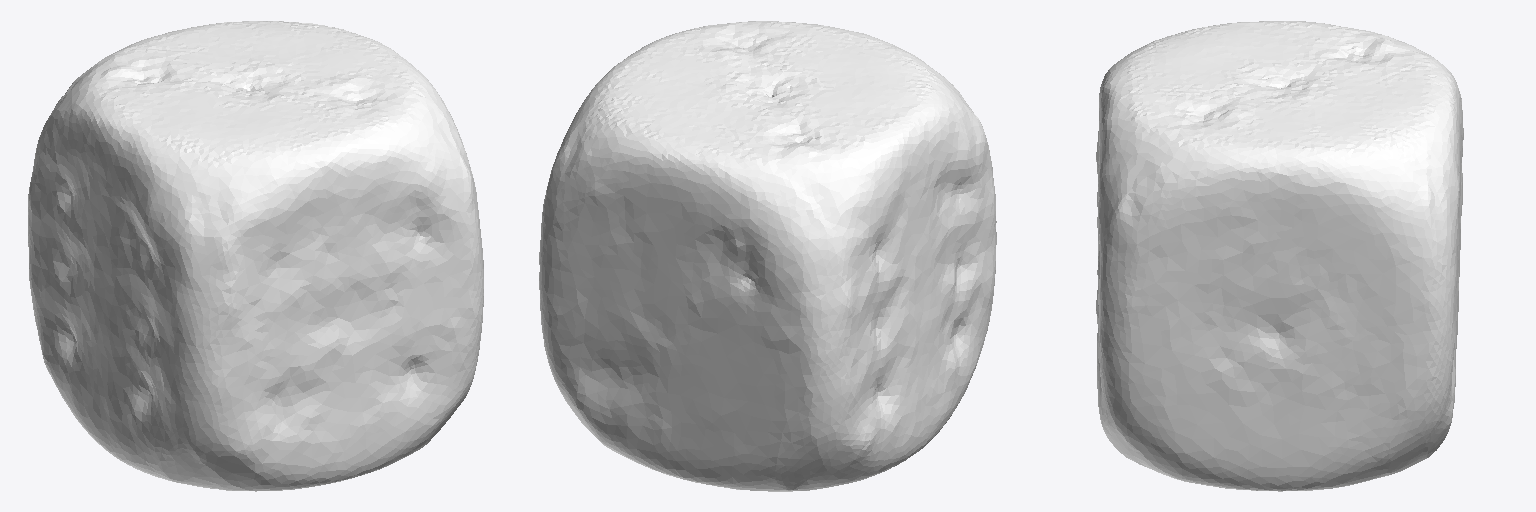
The robot description file, URDF, robot "dice":
<robot name="dice">
    <link name="base_link">
        <visual>
            <origin xyz="0.0 0.0 -0.0" rpy="0.0 0.0 0.0" />
            <geometry>
                <mesh filename="dice/textured.obj" scale="1 1 1" />
            </geometry>
            <material name="texture">
                <color rgba="1.0 1.0 1.0 1.0" />
            </material>
        </visual>
        <collision>
            <origin xyz="0.0 0.0 -0.0" rpy="0.0 0.0 0.0" />
            <geometry>
                <mesh filename="dice/textured_coacd_0.stl" scale="1 1 1" />
            </geometry>
        </collision>
        <collision>
            <origin xyz="0.0 0.0 -0.0" rpy="0.0 0.0 0.0" />
            <geometry>
                <mesh filename="dice/textured_coacd_1.stl" scale="1 1 1" />
            </geometry>
        </collision>
        <collision>
            <origin xyz="0.0 0.0 -0.0" rpy="0.0 0.0 0.0" />
            <geometry>
                <mesh filename="dice/textured_coacd_2.stl" scale="1 1 1" />
            </geometry>
        </collision>
        <collision>
            <origin xyz="0.0 0.0 -0.0" rpy="0.0 0.0 0.0" />
            <geometry>
                <mesh filename="dice/textured_coacd_3.stl" scale="1 1 1" />
            </geometry>
        </collision>
        <collision>
            <origin xyz="0.0 0.0 -0.0" rpy="0.0 0.0 0.0" />
            <geometry>
                <mesh filename="dice/textured_coacd_4.stl" scale="1 1 1" />
            </geometry>
        </collision>
        <inertial>
            <mass value="0.0052" />
            <inertia ixx="1e-3" ixy="0.0" ixz="0.0" iyy="1e-3" iyz="0.0" izz="1e-3" />
        </inertial>
    </link>
</robot>

--- Facts derived from the render (not from the file) ---
The picture shows the robot from 3 angles, left to right: view 1: azimuth 30°, elevation 25°; view 2: azimuth 150°, elevation 25°; view 3: azimuth 270°, elevation 25°; orthographic projection.
Model dice with 1 links and 0 joints (none), rooted at base_link, posed all joints at 0.
Visible links, largest first — view 1: base_link; view 2: base_link; view 3: base_link.
Boxes of the visible links, <box> form: base_link: <box>28,21,483,491</box>; base_link: <box>539,21,996,491</box>; base_link: <box>1096,21,1463,491</box>.
Bounding box of the posed robot: 0.0166 × 0.0168 × 0.0176 m (x, y, z).
Meshes: 1 distinct files referenced, 1 mesh visuals loaded (1 OBJ).